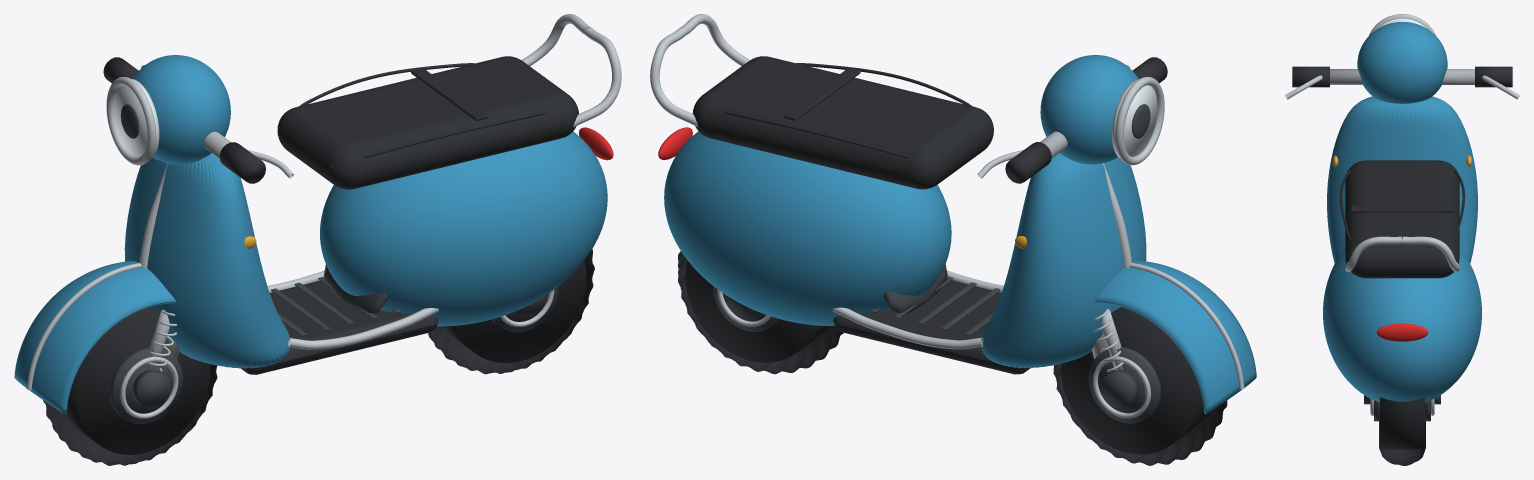
File: scooter-b-concept.glb
The picture shows the model from 3 angles, left to right: view 1: azimuth 30°, elevation 25°; view 2: azimuth 150°, elevation 25°; view 3: azimuth 270°, elevation 25°; orthographic projection. The views are drawn at different scales.
Parts seen in each view (by area): view 1: B pressed blue rear enclosure, B black two-rider saddle, B sculpted swept leg shield, C crowned pressed-metal front fender, C front rubber sidewall, B deep blue headlamp body, Dark rubber step-through floor, C rear rubber sidewall, B scooter front detailed tread, B scooter rear detailed tread, B scooter front alloy rim, B machined chrome headlamp bezel (+15 smaller); view 2: B pressed blue rear enclosure, B black two-rider saddle, B sculpted swept leg shield, C crowned pressed-metal front fender, C front rubber sidewall, B deep blue headlamp body, Dark rubber step-through floor, C rear rubber sidewall, B scooter front detailed tread, B scooter rear detailed tread, B scooter front alloy rim.001, B machined chrome headlamp bezel (+15 smaller); view 3: B pressed blue rear enclosure, B black two-rider saddle, B sculpted swept leg shield, B deep blue headlamp body, C rear rubber sidewall, Wide handlebars, C saddle leather retaining strap, B rear red marker light, Black handle grip, Black handle grip.001, B scooter rear detailed tread, C rear passenger loop (+2 smaller).
Boxes of the visible parts, box(x1,y1,x2,y2) form: B pressed blue rear enclosure: box(320, 131, 607, 326); B black two-rider saddle: box(277, 56, 578, 189); B sculpted swept leg shield: box(124, 153, 289, 368); C crowned pressed-metal front fender: box(14, 261, 243, 414); C front rubber sidewall: box(59, 307, 210, 454); B deep blue headlamp body: box(133, 55, 230, 164); Dark rubber step-through floor: box(241, 281, 438, 374); C rear rubber sidewall: box(440, 261, 586, 362); B scooter front detailed tread: box(43, 364, 217, 465); B scooter rear detailed tread: box(428, 249, 594, 374); B scooter front alloy rim: box(110, 347, 182, 423); B machined chrome headlamp bezel: box(106, 77, 156, 165); B pressed blue rear enclosure: box(664, 131, 951, 325); B black two-rider saddle: box(692, 56, 993, 189); B sculpted swept leg shield: box(981, 153, 1146, 368); C crowned pressed-metal front fender: box(1095, 261, 1256, 414); C front rubber sidewall: box(1061, 307, 1211, 454); B deep blue headlamp body: box(1040, 55, 1138, 164); Dark rubber step-through floor: box(833, 280, 1030, 374); C rear rubber sidewall: box(685, 260, 830, 362); B scooter front detailed tread: box(1053, 363, 1227, 465); B scooter rear detailed tread: box(678, 251, 843, 374); B scooter front alloy rim.001: box(1088, 347, 1160, 423); B machined chrome headlamp bezel: box(1115, 77, 1164, 165); B pressed blue rear enclosure: box(1323, 248, 1481, 402); B black two-rider saddle: box(1345, 160, 1459, 278); B sculpted swept leg shield: box(1327, 96, 1477, 263); B deep blue headlamp body: box(1357, 22, 1447, 103); C rear rubber sidewall: box(1380, 397, 1424, 449); Wide handlebars: box(1330, 69, 1474, 84); C saddle leather retaining strap: box(1351, 205, 1453, 212); B rear red marker light: box(1376, 323, 1428, 341); Black handle grip: box(1292, 66, 1329, 87); Black handle grip.001: box(1475, 66, 1512, 87); B scooter rear detailed tread: box(1379, 421, 1425, 465); C rear passenger loop: box(1345, 236, 1402, 271).
Bounding box in the file's own units: 2.43 × 1.57 × 1.09.
